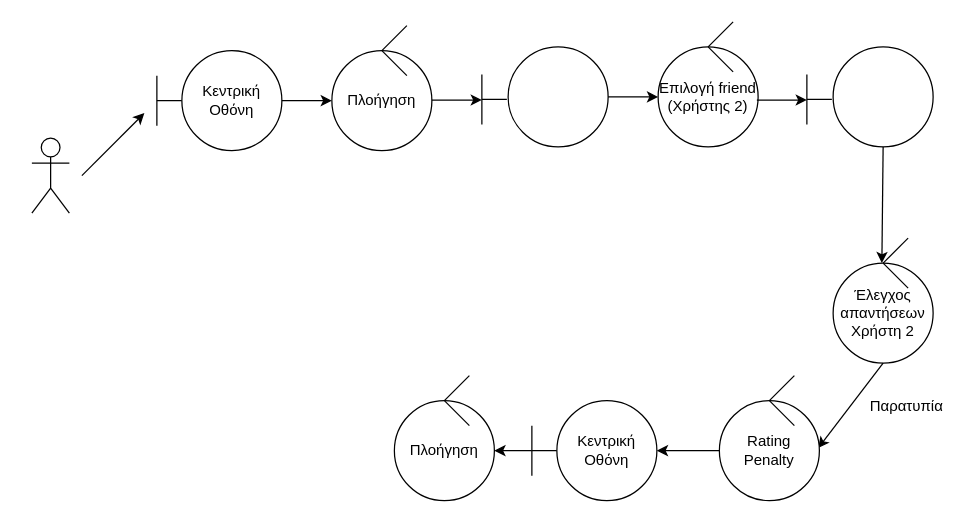
Image size: 966x523. Some labels were removed from this diagram. Here are the shapes that lost their labels. From the top down, the centre of each, then its label:
At point (557, 96): "Friends Screen".
At point (882, 96): "Friend Profile Screen (Χρήστης 2)".
At point (50, 175): "Χρήστης".
